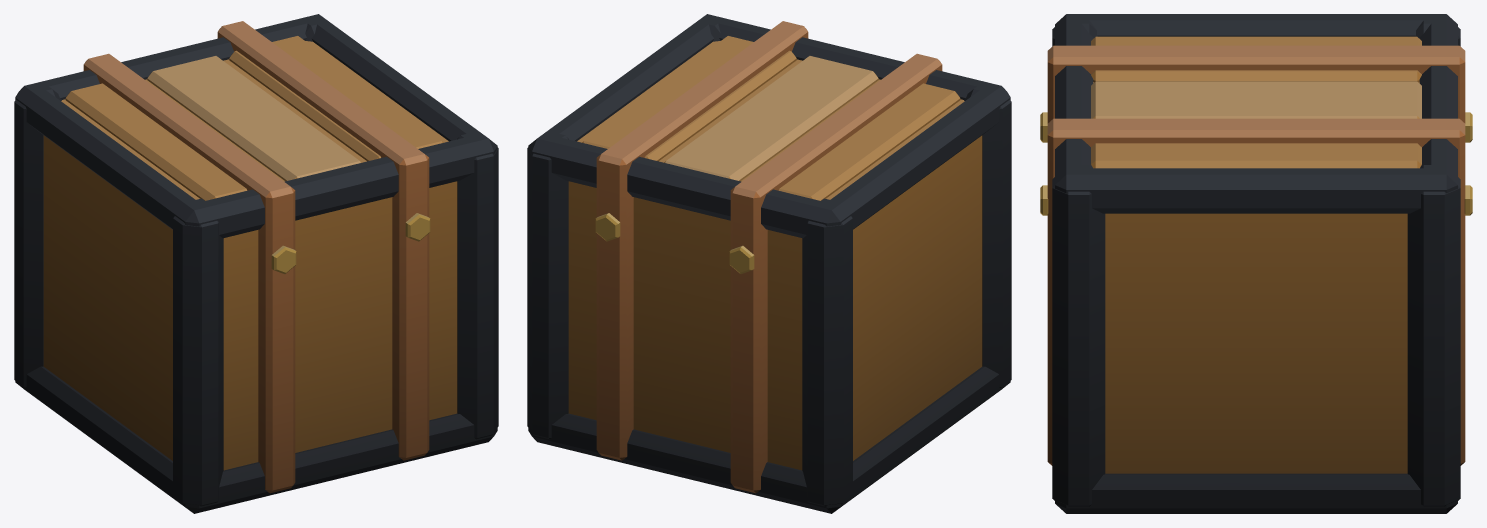
File: strapped-crate.glb
3 renders of one model, left to right at view 1: azimuth 30°, elevation 25°; view 2: azimuth 150°, elevation 25°; view 3: azimuth 270°, elevation 25°, orthographic. The views are drawn at different scales.
Parts seen in each view (by area): view 1: mesh_strapped_crate; view 2: mesh_strapped_crate; view 3: mesh_strapped_crate.
Part boxes in pixels (x1,y1,x2,y2): mesh_strapped_crate: [14, 14, 498, 513]; mesh_strapped_crate: [527, 14, 1011, 513]; mesh_strapped_crate: [1040, 14, 1472, 513].
Bounding box in the file's own units: 0.85 × 0.795 × 0.9.
